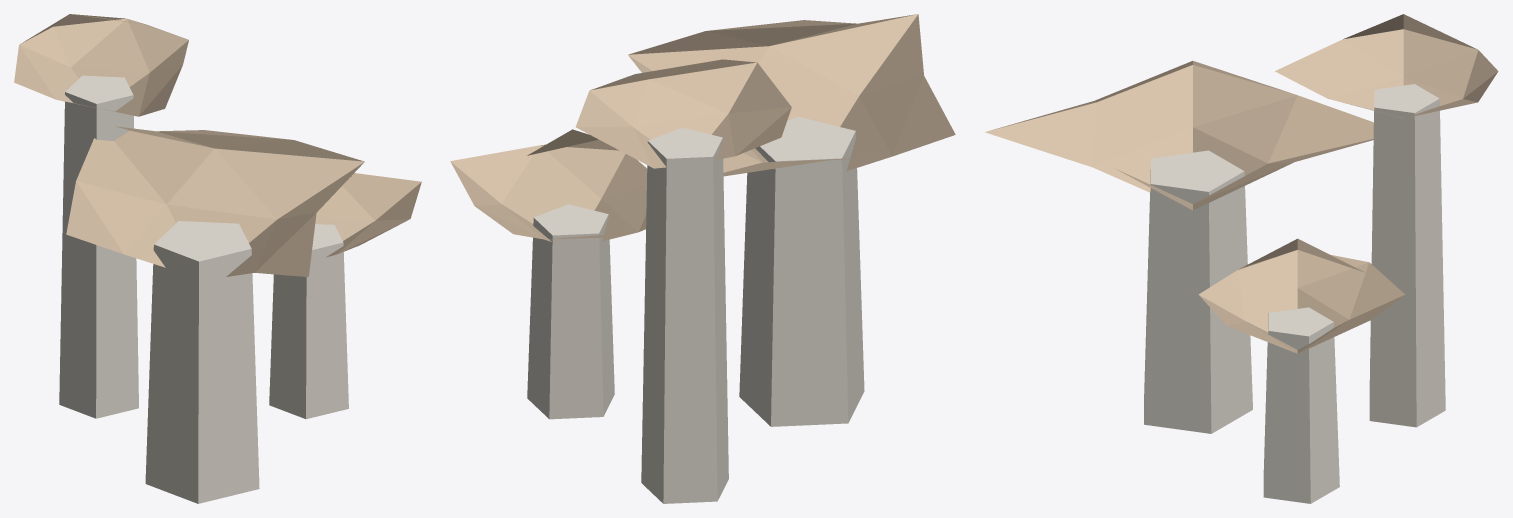
File: mushroom_v37.glb
The picture shows the model from 3 angles, left to right: view 1: azimuth 30°, elevation 25°; view 2: azimuth 150°, elevation 25°; view 3: azimuth 270°, elevation 25°; orthographic projection. The views are drawn at different scales.
Visible parts, largest first — view 1: lod0; view 2: lod0; view 3: lod0.
Boxes of the visible parts, bbox=[...] form: lod0: bbox=[14, 14, 421, 503]; lod0: bbox=[450, 14, 955, 503]; lod0: bbox=[985, 14, 1498, 503].
Size of what is drawn, in the model's own units: 0.4652 by 0.4174 by 0.5078.
